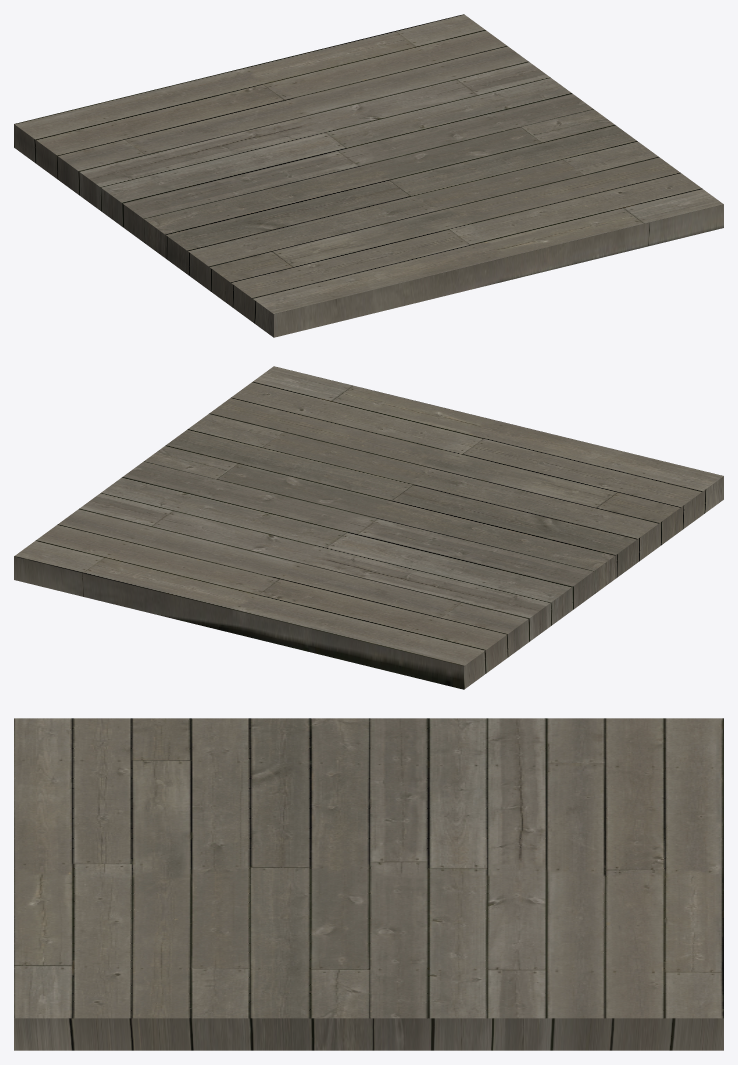
The picture shows the model from 3 angles, top to bottom: view 1: azimuth 30°, elevation 25°; view 2: azimuth 150°, elevation 25°; view 3: azimuth 270°, elevation 25°; orthographic projection. The views are drawn at different scales.
Parts seen in each view (by area): view 1: FL2x2_1; view 2: FL2x2_1; view 3: FL2x2_1.
Part boxes in pixels (left/top/right/bottom): FL2x2_1: left=14, top=14, right=723, bottom=337; FL2x2_1: left=14, top=366, right=723, bottom=689; FL2x2_1: left=14, top=718, right=723, bottom=1050.
Bounding box in the file's own units: 2 × 0.1 × 2.
1 material, 1 textured.
